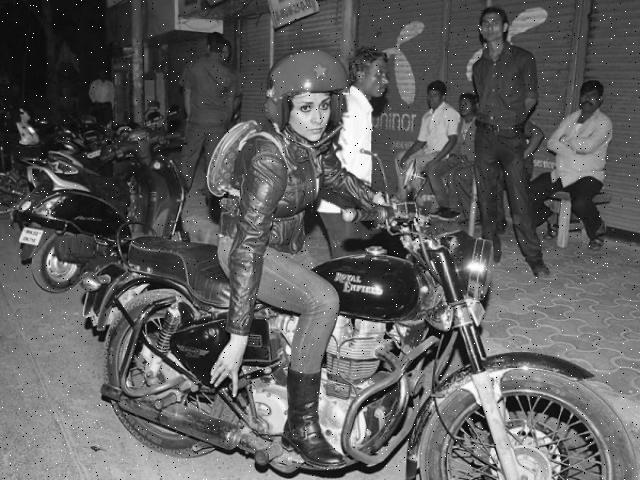With Helmet: (262, 40, 358, 148)
Without Helmet: (350, 46, 390, 100), (469, 4, 508, 40), (572, 80, 606, 112), (421, 82, 443, 110), (456, 90, 472, 118)
